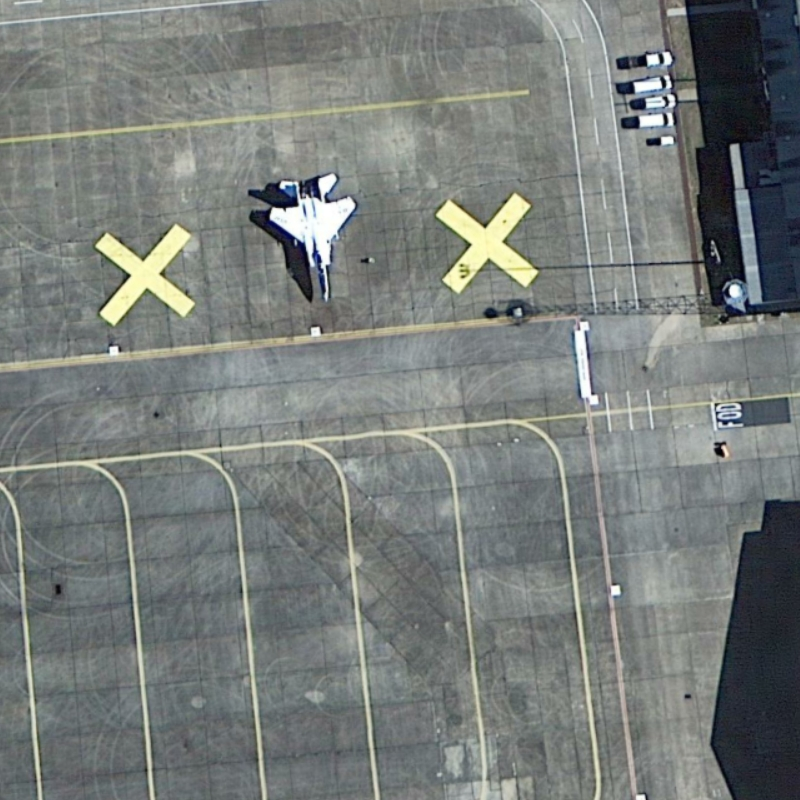A13: (261, 167, 363, 309)
